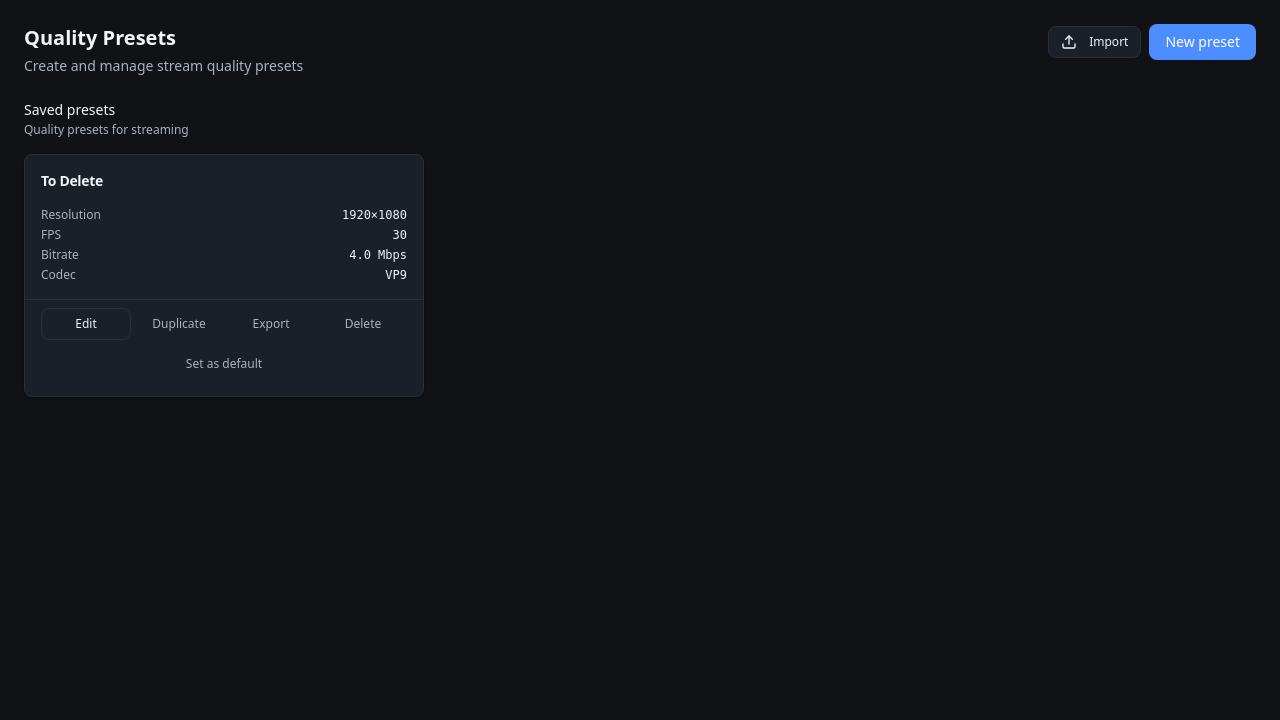
Test: QualityPresetsPage interactions › shows delete confirmation dialog
Expected: the text "To Delete" is shown, [41,171,103,191]
Note: The card footer delete button is the first one (dialog delete is hidden until opened)
Click the button "Delete".
click(363, 324)  # box [319,308,407,340]
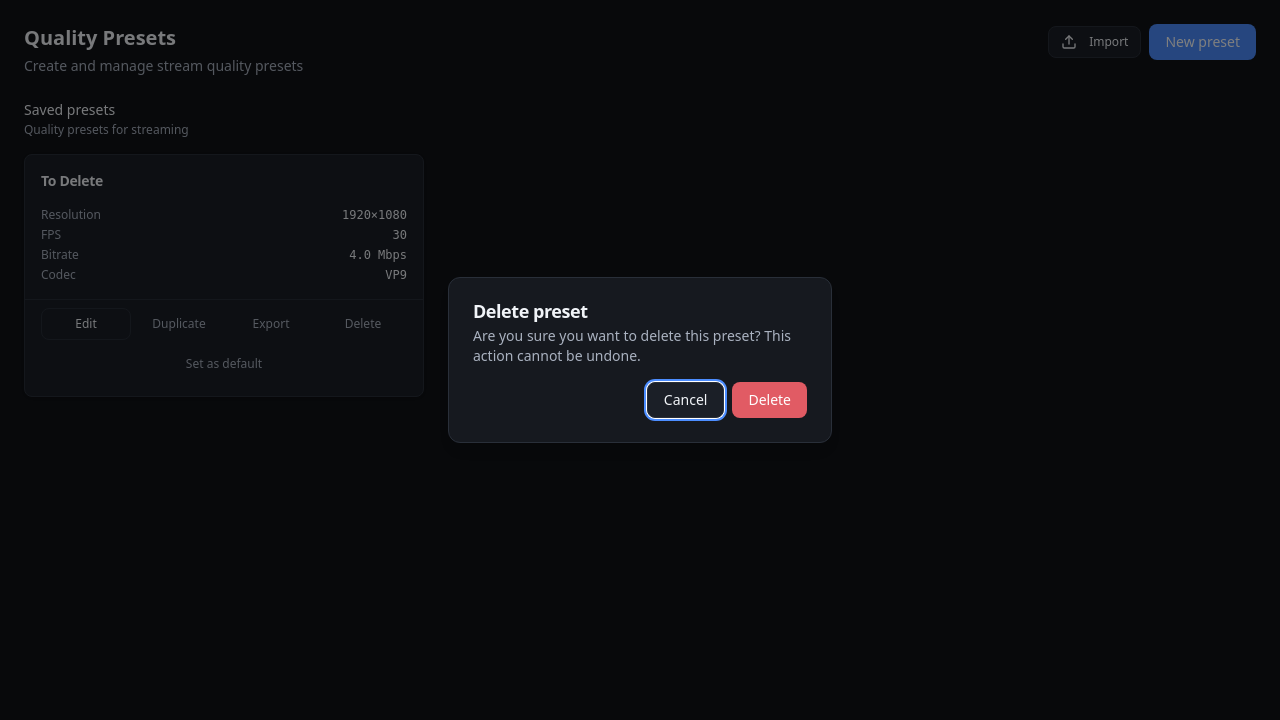
Expected: the text "Are you sure you want to delete" is shown, [473,326,791,365]
Expected: the button "Cancel" is shown, [647,382,724,418]
